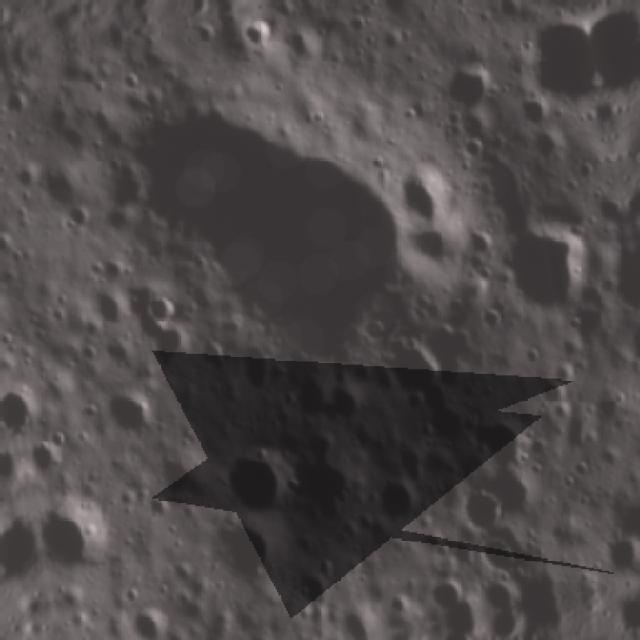crater: (100, 68, 454, 402), (494, 203, 606, 332), (210, 428, 310, 534), (515, 8, 603, 121), (34, 491, 124, 584), (195, 511, 278, 592), (370, 332, 448, 414), (595, 459, 640, 578), (396, 153, 464, 225), (403, 216, 471, 282), (96, 378, 159, 448), (472, 409, 538, 473), (368, 465, 427, 533), (438, 56, 502, 112), (151, 443, 207, 506), (481, 466, 542, 522), (459, 560, 521, 614), (474, 526, 529, 586), (322, 377, 378, 434), (292, 564, 345, 619), (416, 572, 473, 622), (22, 428, 73, 483), (87, 281, 139, 334), (289, 367, 340, 421), (588, 385, 634, 440), (39, 163, 87, 215), (457, 484, 506, 534), (283, 22, 331, 73), (122, 600, 182, 640), (597, 530, 640, 581), (427, 406, 475, 448), (512, 90, 553, 138), (230, 14, 276, 55), (59, 198, 104, 238), (337, 604, 380, 640), (357, 313, 398, 347), (143, 288, 175, 328), (0, 86, 32, 121), (374, 26, 403, 56), (492, 0, 528, 23), (193, 20, 222, 46), (431, 0, 473, 15), (0, 172, 5, 208)
